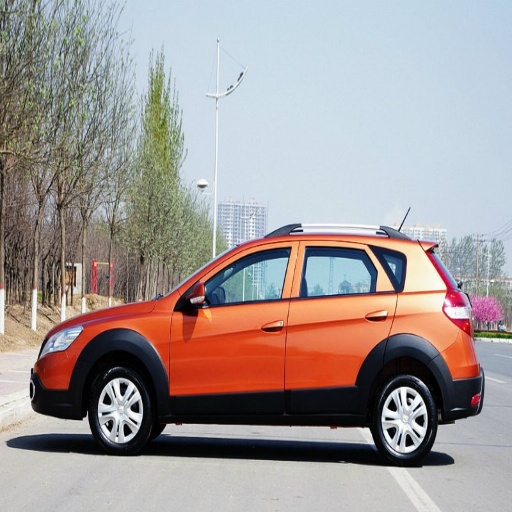back_left_door: (286, 237, 395, 410)
front_left_door: (170, 237, 299, 407)
